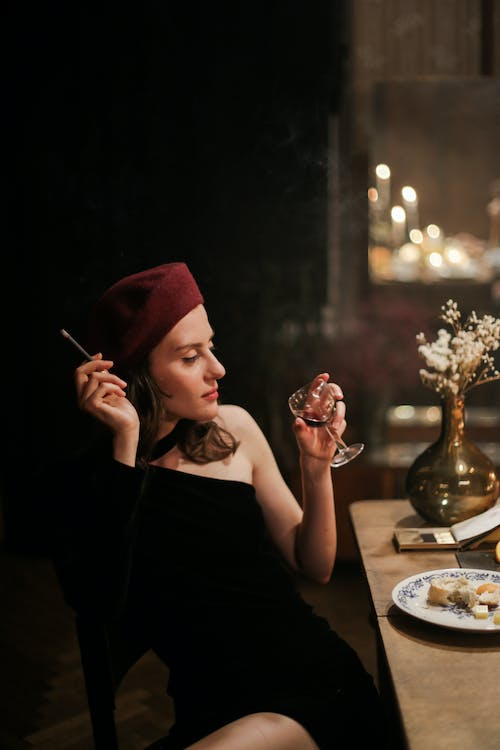alcohol: (286, 376, 366, 469)
cigarette: (58, 324, 96, 362)
